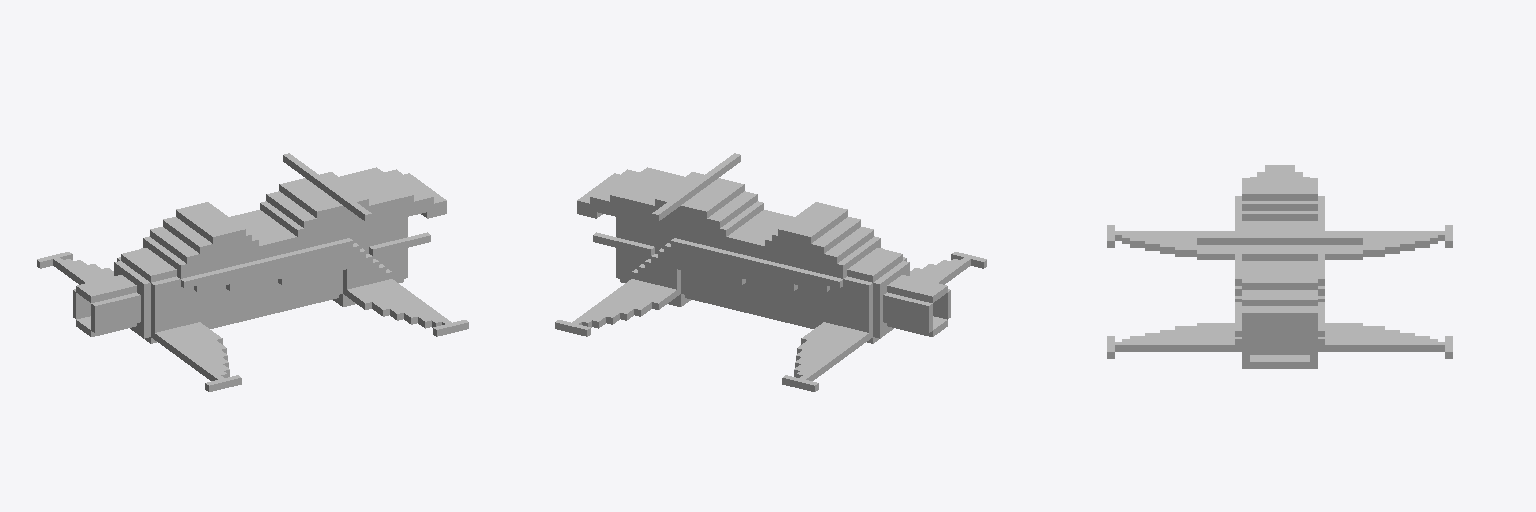
Rendered from Motocycle_03.obj.
The picture shows the model from 3 angles: view 1: azimuth 30°, elevation 25°; view 2: azimuth 150°, elevation 25°; view 3: azimuth 270°, elevation 25°; orthographic projection.
Parts seen in each view (by area): view 1: object 1; view 2: object 1; view 3: object 1.
Part boxes in pixels (x1,y1,x2,y2): object 1: (37,153,468,391); object 1: (555,153,986,391); object 1: (1107,165,1452,368).
Size of the model in its own units: 5.3 by 1.6 by 4.6.